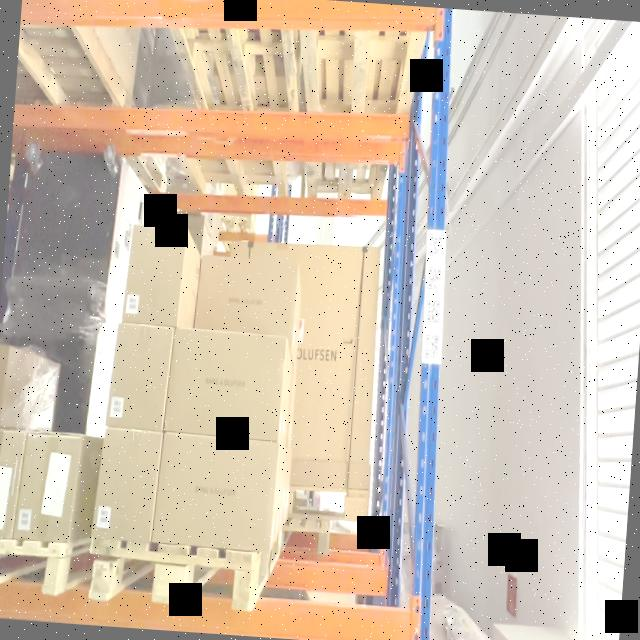box: (154, 432, 274, 546), (167, 328, 280, 438), (191, 256, 296, 353), (91, 426, 160, 540), (14, 431, 82, 540), (105, 323, 171, 429), (121, 227, 185, 326)
